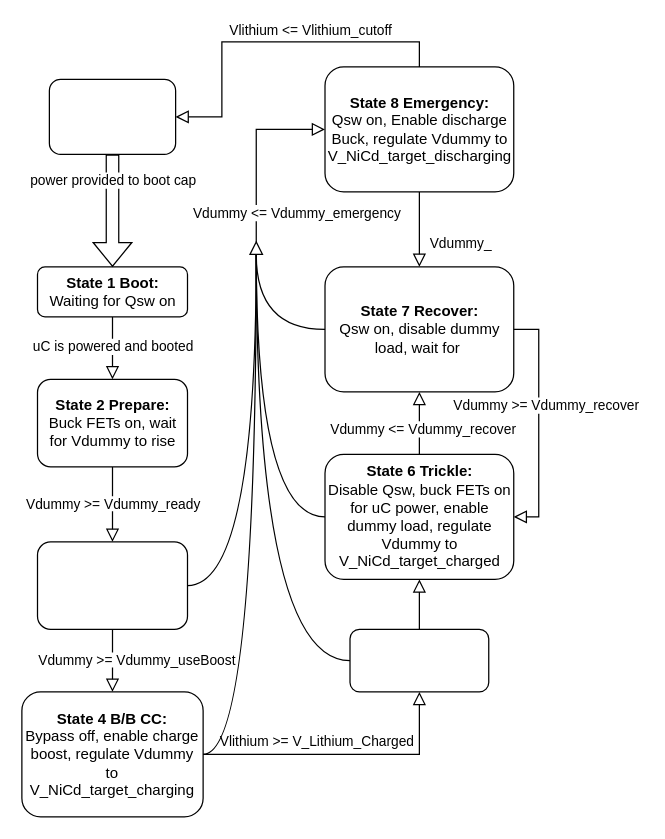
The diagram is 665 pixels wide and 839 high, and some of its shapes have lost their labels. The centre of each missing label's shape, as x and y in pixels:
State 3 Bypass: Output On, Bypass On: (x=112, y=585)
State 5 B/B CV: Unused, skip to state 6: (x=419, y=660)
State 9 Off: Everything off, uC dies: (x=112, y=116)
